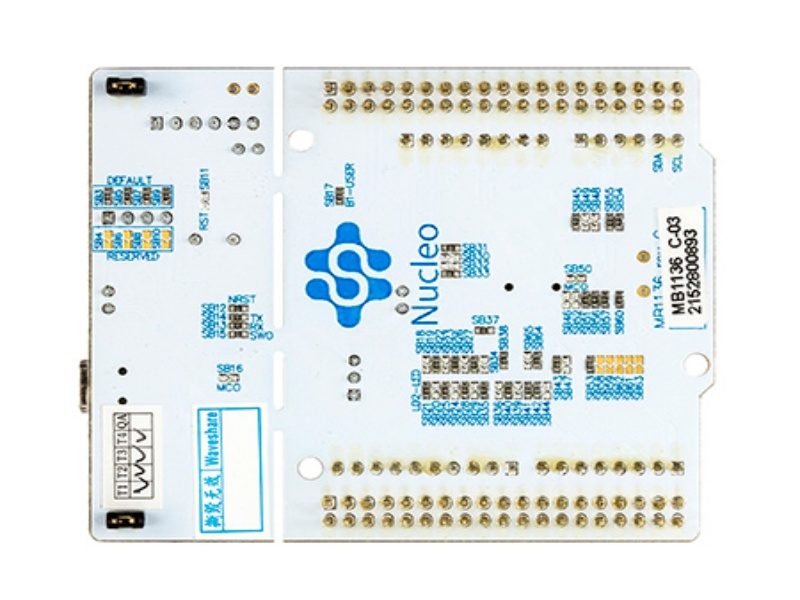stmnucleo: (60, 56, 703, 540)
